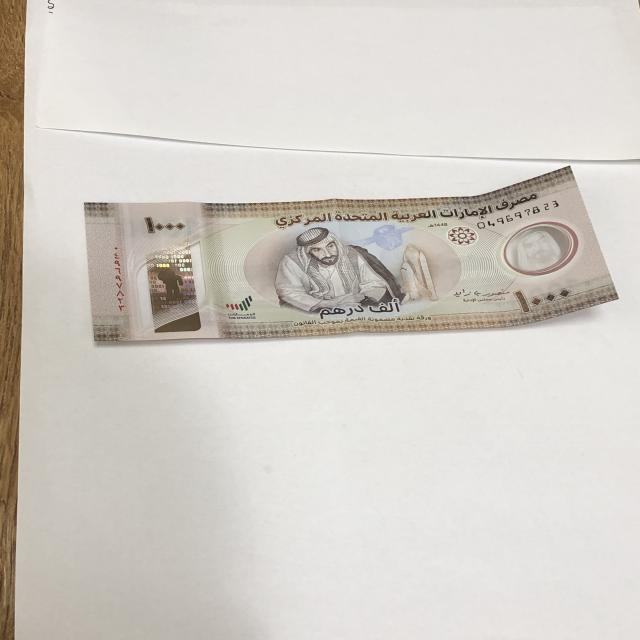1000_AED: (82, 162, 625, 351)
